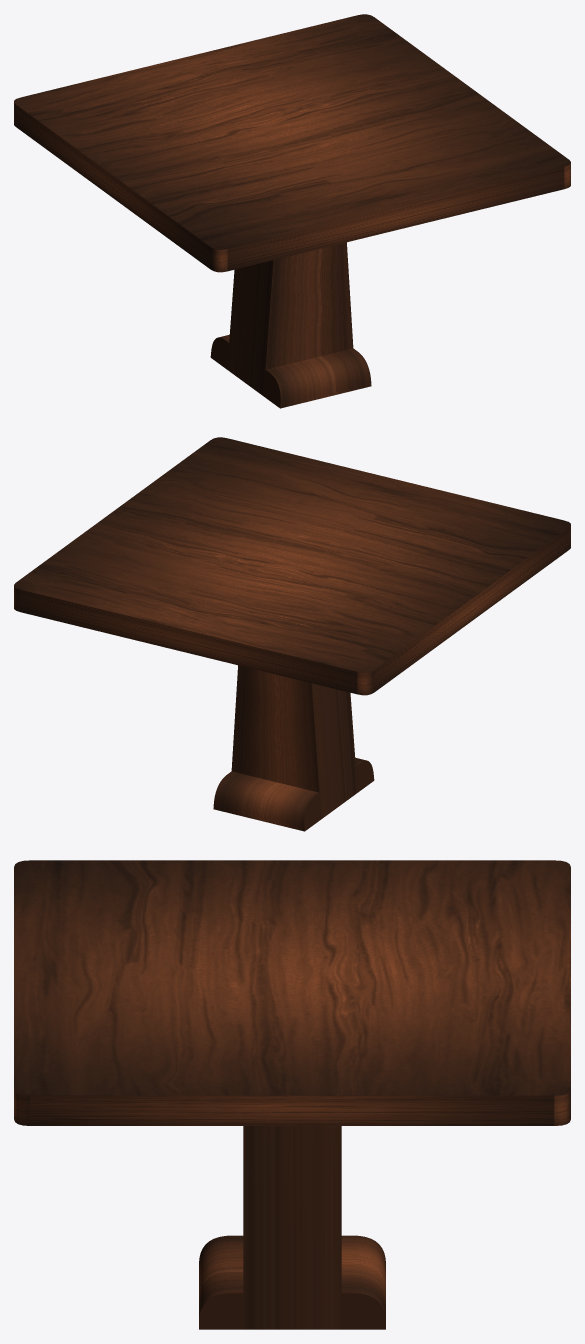
The model's file is Wooden Square Table.FBX.
3 views of the same model, one above another, from view 1: azimuth 30°, elevation 25°; view 2: azimuth 150°, elevation 25°; view 3: azimuth 270°, elevation 25° (orthographic). The views are drawn at different scales.
Parts seen in each view (by area): view 1: Box002, Box001; view 2: Box002, Box001; view 3: Box002, Box001.
Part boxes in pixels (x1=…): Box002: x1=14, y1=14, x2=570, y2=272; Box001: x1=210, y1=242, x2=371, y2=408; Box002: x1=14, y1=437, x2=570, y2=695; Box001: x1=213, y1=665, x2=374, y2=831; Box002: x1=14, y1=860, x2=570, y2=1125; Box001: x1=199, y1=1126, x2=385, y2=1329.
Bounding box in the file's own units: 50 × 31.93 × 50.
Materials: 2 (2 with a texture image).
